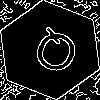Q: (25, 25, 84, 85)
